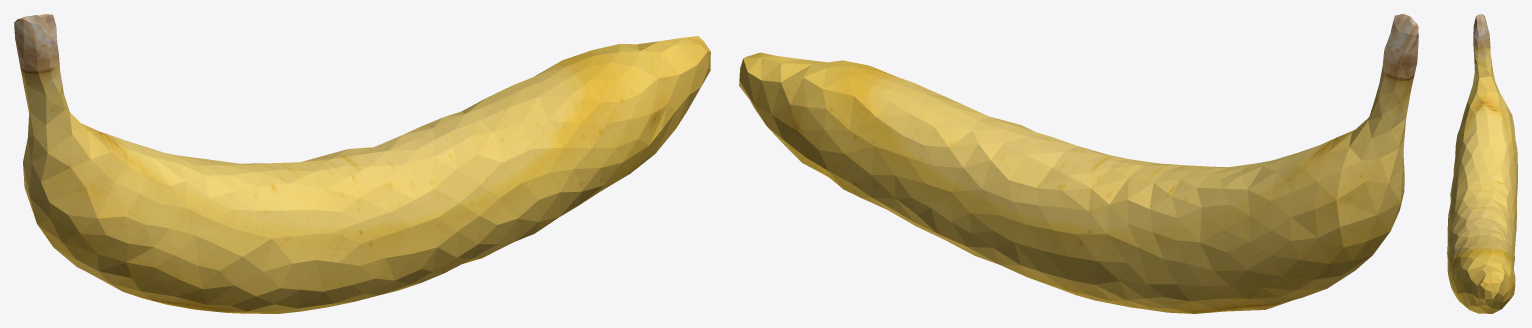
The model's file is banana.obj.
3 views of the same model, side by side, from view 1: azimuth 30°, elevation 25°; view 2: azimuth 150°, elevation 25°; view 3: azimuth 270°, elevation 25° (orthographic). The views are drawn at different scales.
Visible parts, largest first — view 1: banana; view 2: banana; view 3: banana.
Part boxes in pixels (x1,y1,x2,y2): banana: [14, 14, 710, 313]; banana: [739, 14, 1418, 313]; banana: [1447, 14, 1517, 313].
Bounding box in the file's own units: 0.2277 × 0.113 × 0.0394.
Materials: 1 (1 with a texture image).
